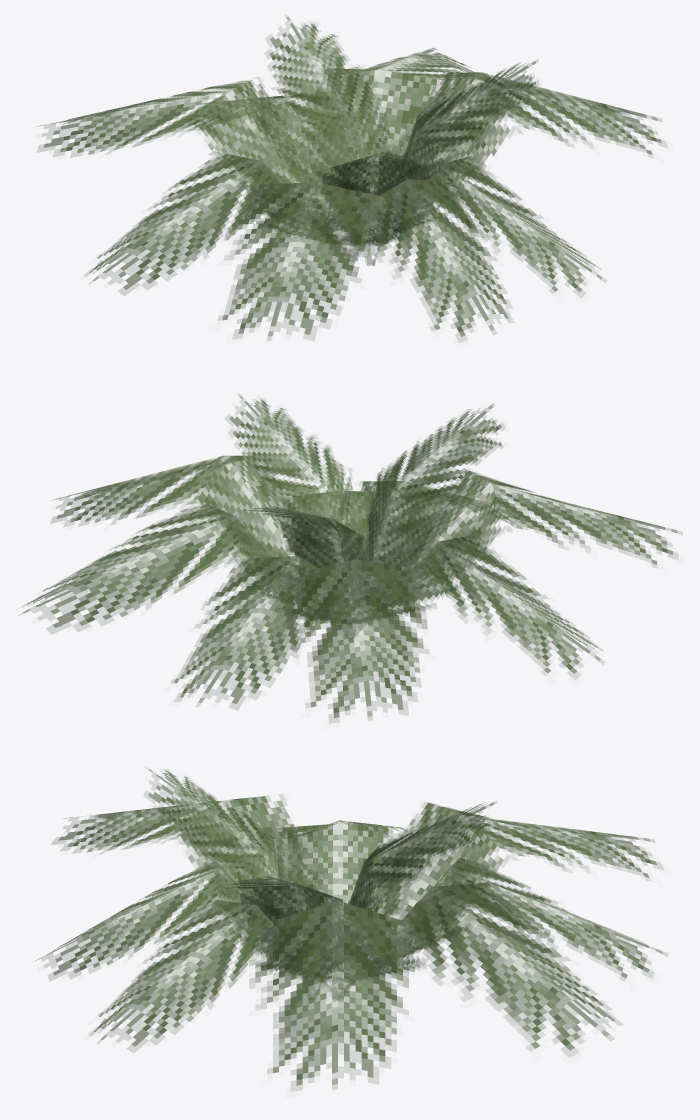
The model's file is sbushtro_0.glb.
3 views of the same model, one above another, from view 1: azimuth 30°, elevation 25°; view 2: azimuth 150°, elevation 25°; view 3: azimuth 270°, elevation 25° (orthographic). The views are drawn at different scales.
Parts seen in each view (by area): view 1: sbushtro_0; view 2: sbushtro_0; view 3: sbushtro_0.
Boxes of the visible parts, x1,y1,x2,y2 form: sbushtro_0: [37, 14, 667, 342]; sbushtro_0: [18, 393, 682, 723]; sbushtro_0: [35, 767, 667, 1091].
Bounding box in the file's own units: 3.84 × 1.31 × 3.66.
Materials: 1 (1 with a texture image).
